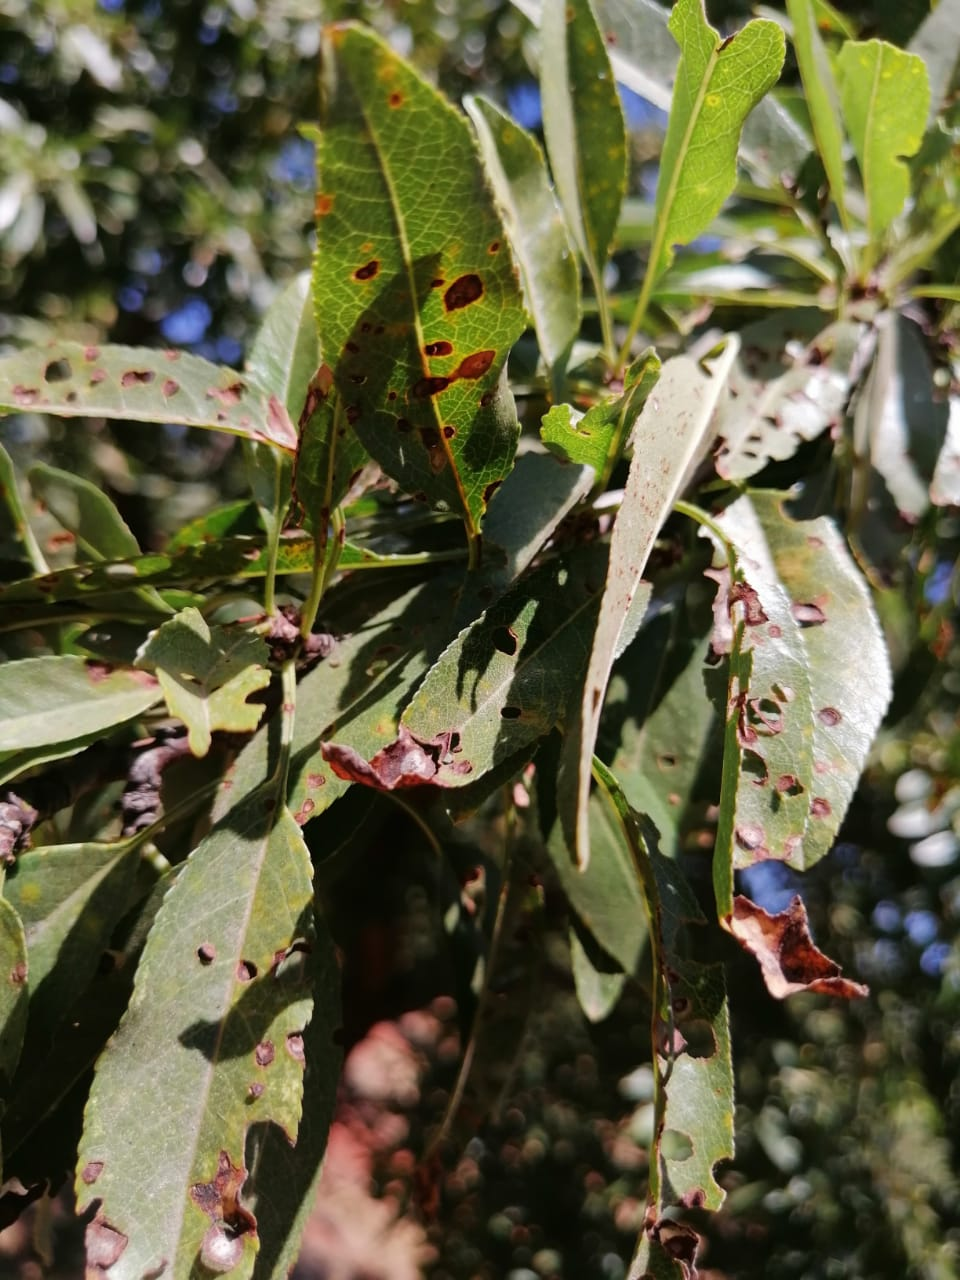coryneum: (75, 780, 314, 1280), (311, 19, 530, 530), (555, 335, 740, 873), (709, 485, 891, 1010), (1, 335, 305, 453)
